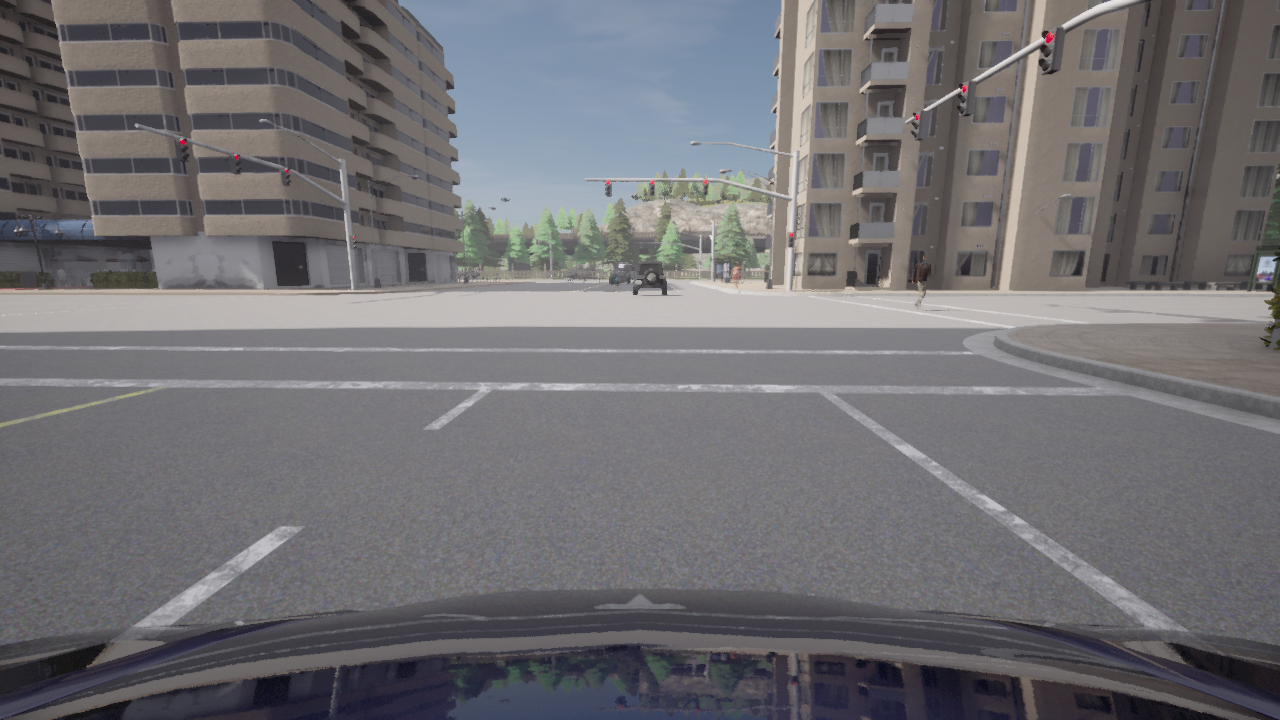cyclist: (0, 588, 1279, 719), (631, 261, 667, 295), (616, 263, 635, 280), (610, 269, 630, 284), (457, 269, 479, 279), (565, 271, 587, 280)
pedestrian: (911, 253, 933, 309), (733, 262, 741, 288), (614, 275, 619, 291)
